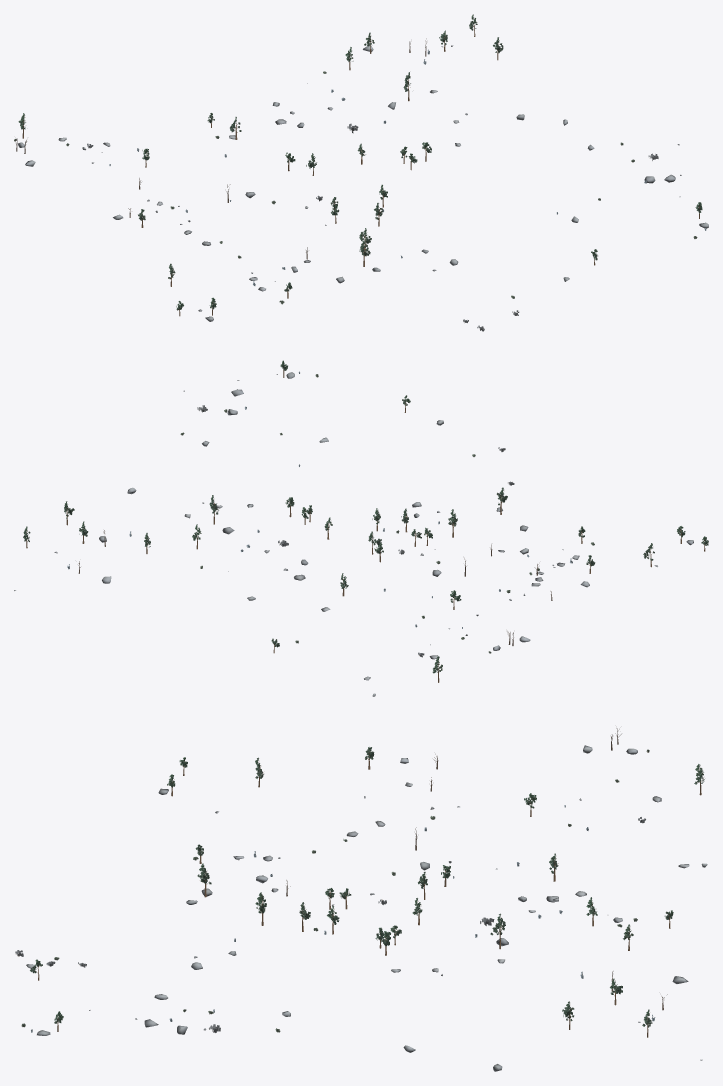
The model's file is frost_land_scatter_c19_09.glb.
3 renders of one model, top to bottom at view 1: azimuth 30°, elevation 25°; view 2: azimuth 150°, elevation 25°; view 3: azimuth 270°, elevation 25°, orthographic. The views are drawn at different scales.
Visible parts, largest first — view 1: frost_land_scatter_c19_09; view 2: frost_land_scatter_c19_09; view 3: frost_land_scatter_c19_09.
Part boxes in pixels (box(x1,y1,x2,y2)): frost_land_scatter_c19_09: box(14, 14, 708, 331); frost_land_scatter_c19_09: box(14, 360, 708, 696); frost_land_scatter_c19_09: box(15, 728, 707, 1071).
Size of the model in its own units: 251 by 47.77 by 240.
